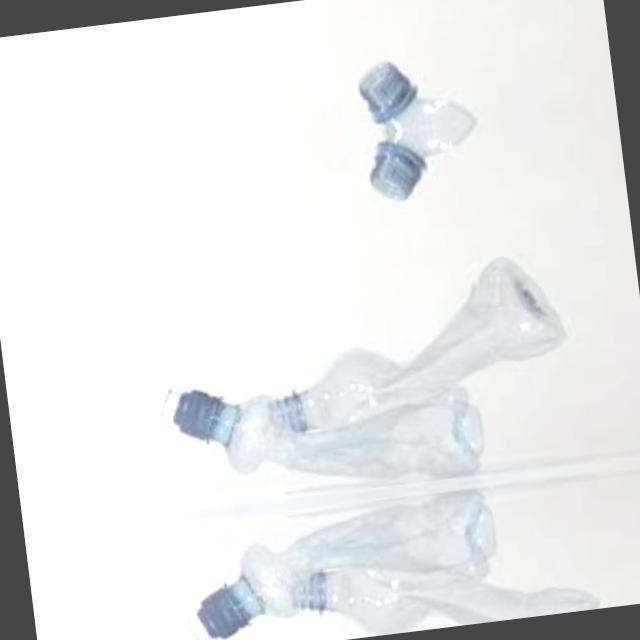Plastic: (116, 242, 594, 520), (143, 468, 611, 640), (82, 0, 533, 33)
